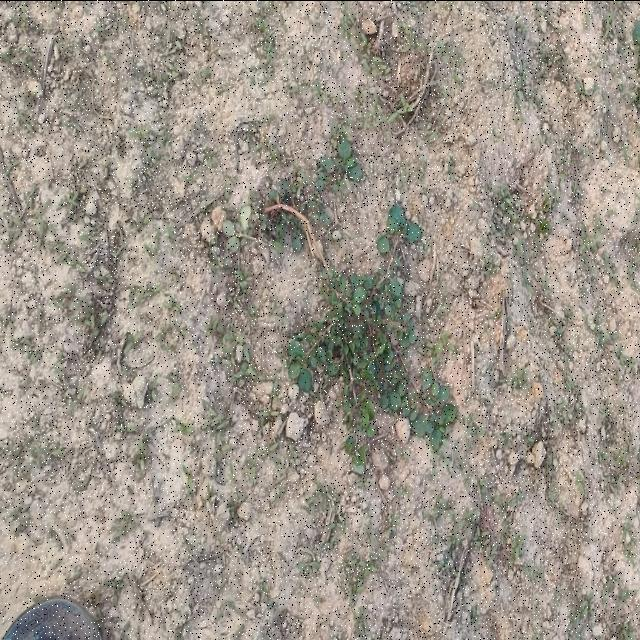weed: (261, 197, 458, 474), (315, 126, 363, 190), (215, 204, 269, 250)
